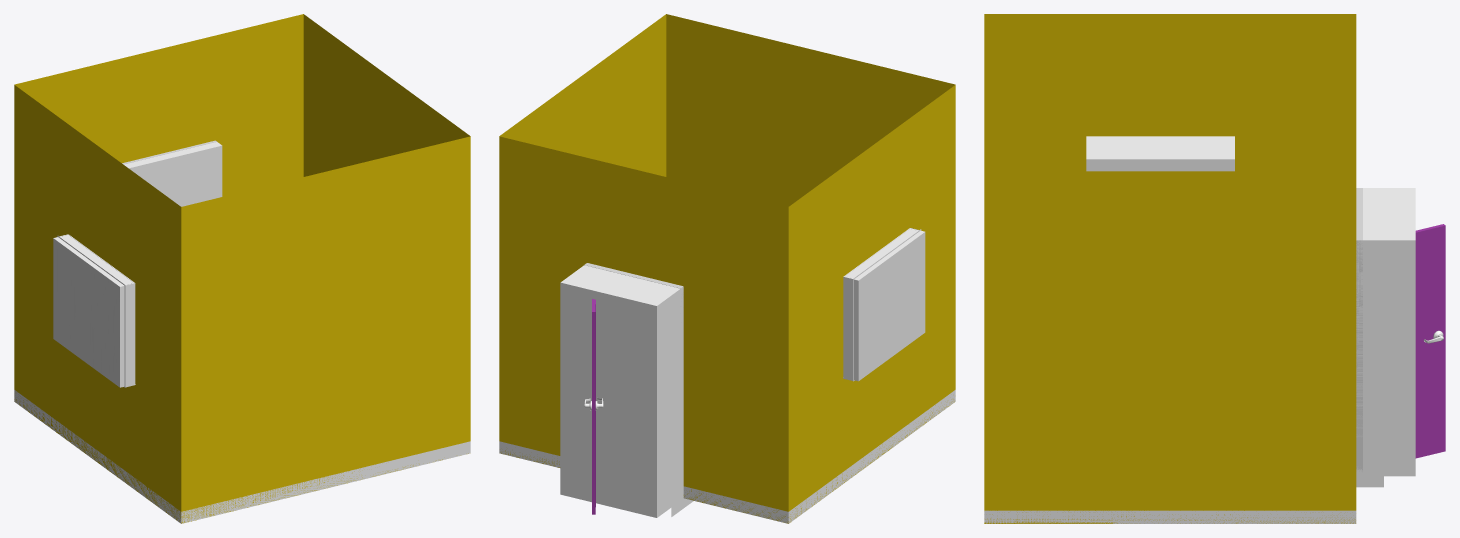
The model's file is house3dnew.glb.
3 views of the same model, side by side, from view 1: azimuth 30°, elevation 25°; view 2: azimuth 150°, elevation 25°; view 3: azimuth 270°, elevation 25° (orthographic). The views are drawn at different scales.
Parts seen in each view (by area): view 1: Room, CTRL_Hole.001, Baseboard, CTRL_Hole, WindowFrame; view 2: Room, CTRL_Hole, CTRL_Hole.001, Baseboard, WindowFrame, Door, CTRL_Baseboard; view 3: Room, CTRL_Hole, Door, CTRL_Hole.001, Baseboard, DoorFrame, CTRL_Baseboard.
Boxes of the visible parts, box(x1,y1,x2,y2) form: Room: box(14, 14, 470, 523); CTRL_Hole.001: box(53, 234, 135, 387); Baseboard: box(14, 390, 470, 523); CTRL_Hole: box(124, 142, 222, 206); WindowFrame: box(57, 234, 134, 387); Room: box(499, 14, 955, 523); CTRL_Hole: box(560, 265, 683, 517); CTRL_Hole.001: box(843, 228, 925, 381); Baseboard: box(499, 390, 955, 523); WindowFrame: box(844, 228, 921, 381); Door: box(592, 299, 595, 514); CTRL_Baseboard: box(671, 470, 693, 516); Room: box(984, 14, 1356, 523); CTRL_Hole: box(1356, 188, 1415, 476); Door: box(1415, 224, 1445, 458); CTRL_Hole.001: box(1086, 136, 1234, 171); Baseboard: box(984, 510, 1356, 523); DoorFrame: box(1356, 188, 1362, 471); CTRL_Baseboard: box(1356, 452, 1383, 487).
Bounding box in the file's own units: 3.16 × 3.24 × 3.72.
